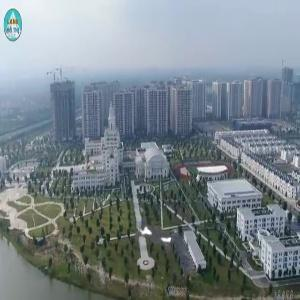drone: (106, 185, 213, 292)
